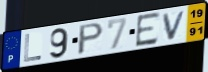7: (106, 16, 130, 52)
9: (49, 27, 71, 60)
E: (134, 11, 161, 50)
L: (23, 33, 43, 63)
P: (76, 22, 106, 57)
V: (161, 9, 188, 42)
